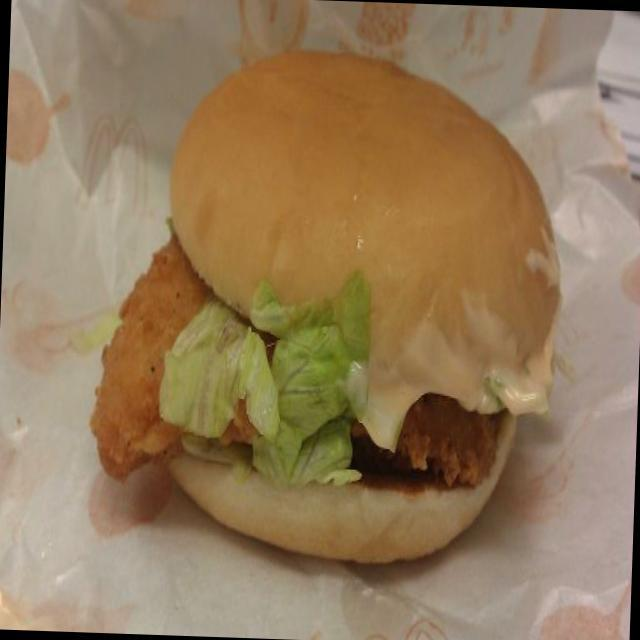Hamburger: (76, 33, 576, 570)
